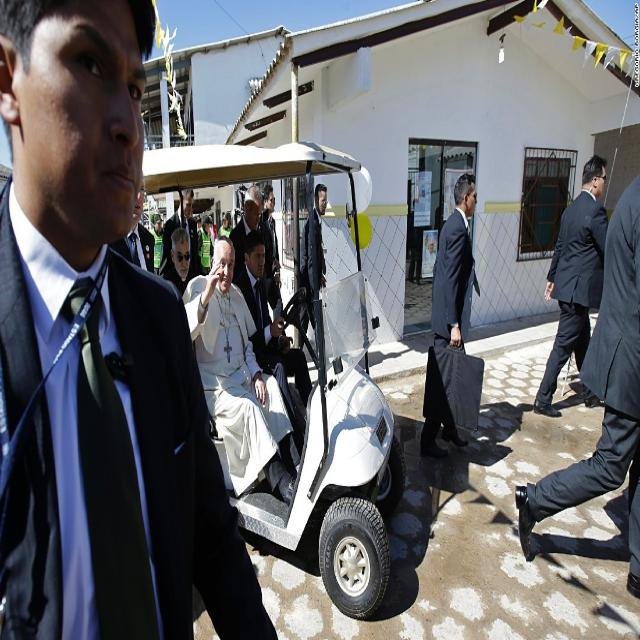body: (0, 1, 280, 640), (512, 169, 640, 601), (181, 232, 302, 506), (532, 153, 610, 420), (234, 229, 314, 460), (419, 172, 478, 461), (406, 160, 458, 295), (300, 182, 328, 384), (109, 165, 156, 276), (256, 183, 287, 337), (158, 186, 200, 279), (228, 185, 264, 283), (162, 226, 208, 296), (197, 215, 215, 277), (149, 212, 165, 276), (202, 214, 215, 276), (195, 216, 205, 273), (216, 211, 234, 239)
